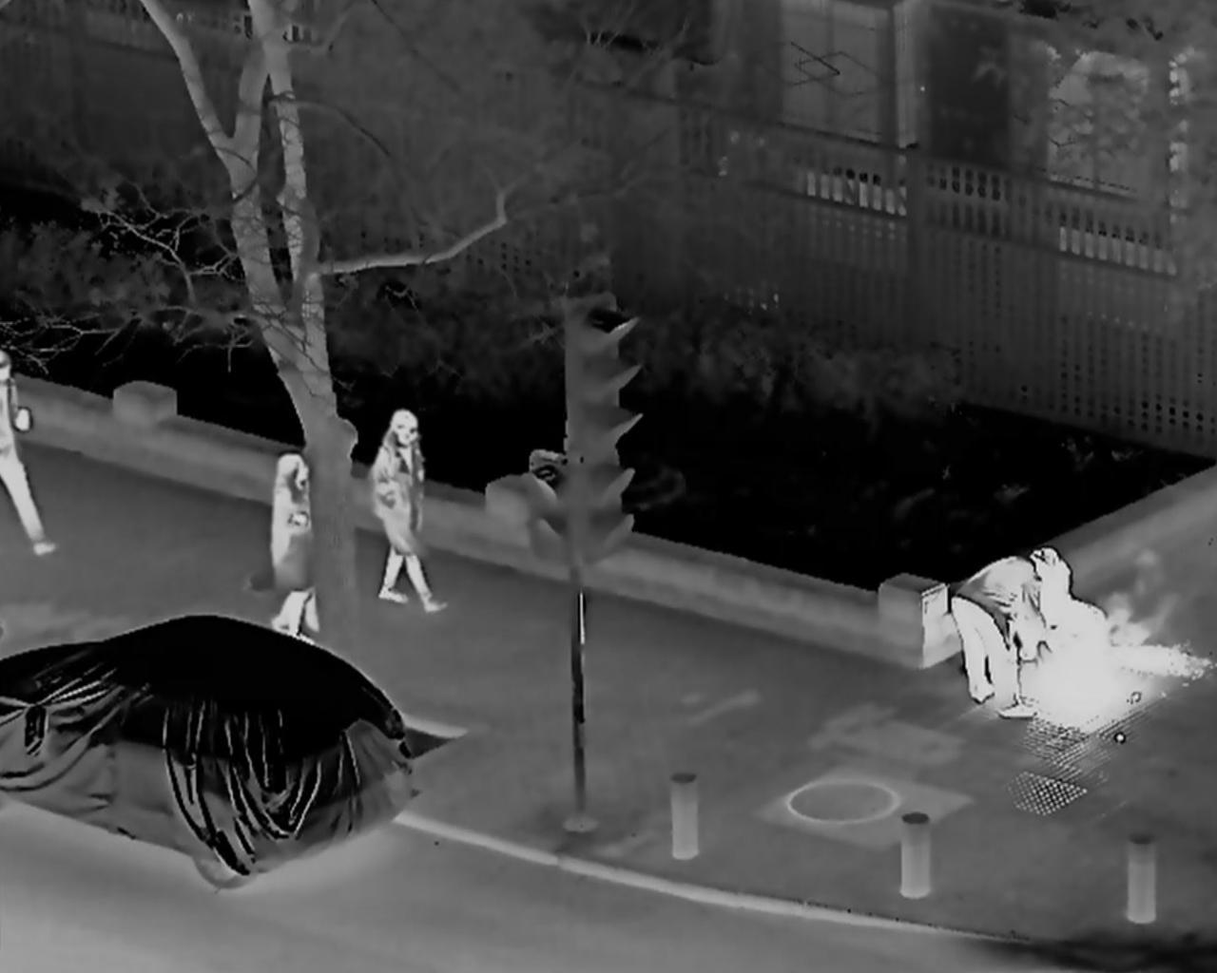person: (948, 544, 1052, 720), (370, 410, 445, 612), (1006, 547, 1105, 668), (260, 456, 317, 650)
